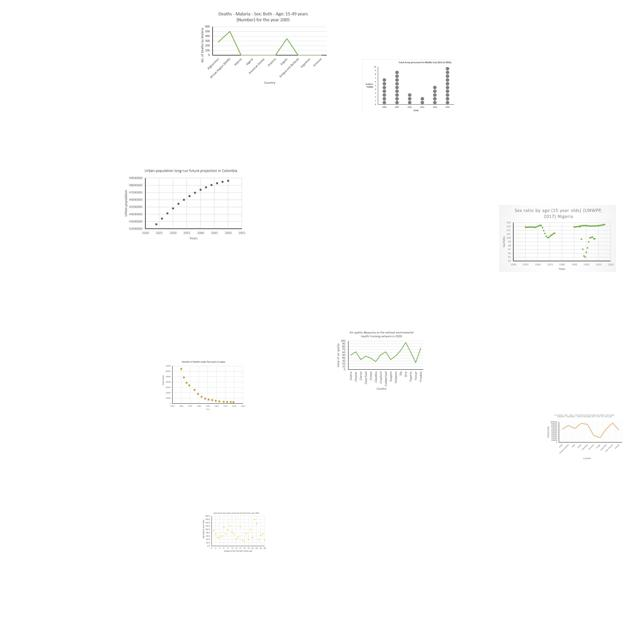Graph: (198, 10, 329, 86), (119, 167, 248, 243), (499, 205, 616, 272), (334, 329, 425, 392), (362, 59, 456, 114), (160, 359, 247, 413), (546, 413, 623, 460), (201, 511, 267, 553)
